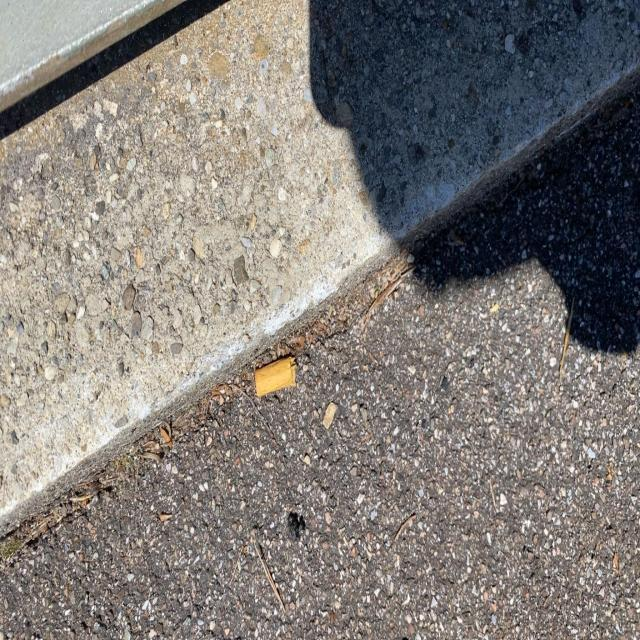other waste: (254, 355, 298, 398)
